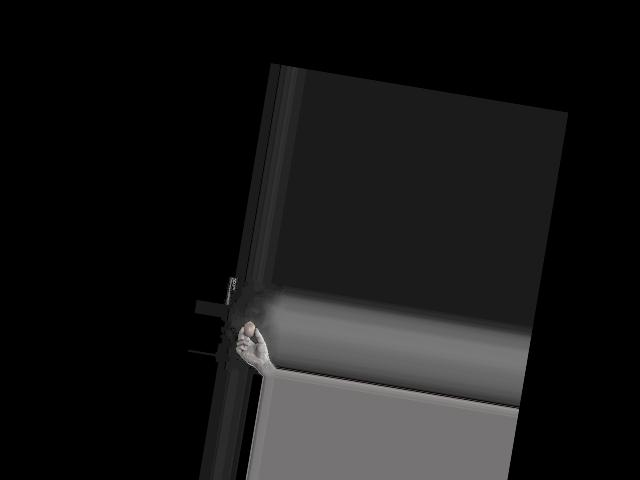egg: (242, 321, 256, 338)
